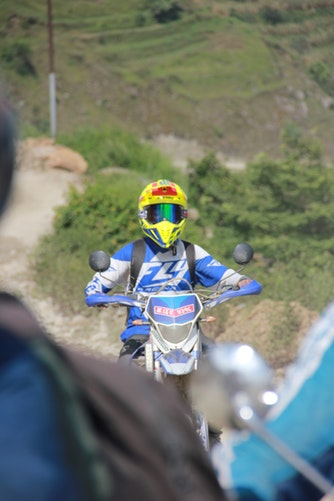helmet: (131, 178, 192, 253)
